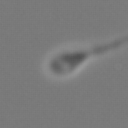normal: (86, 23, 128, 58)
